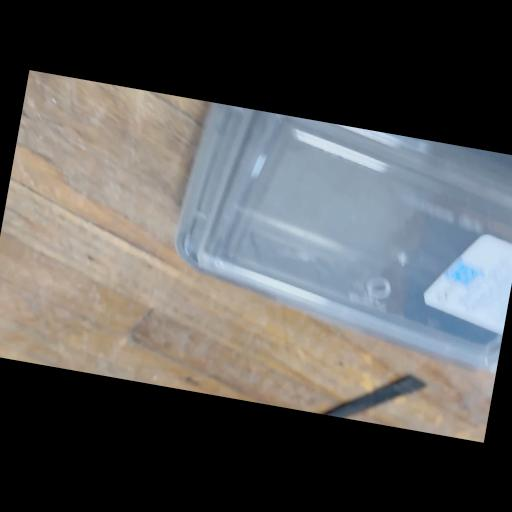rigid_plastic_container: (157, 99, 512, 380)
